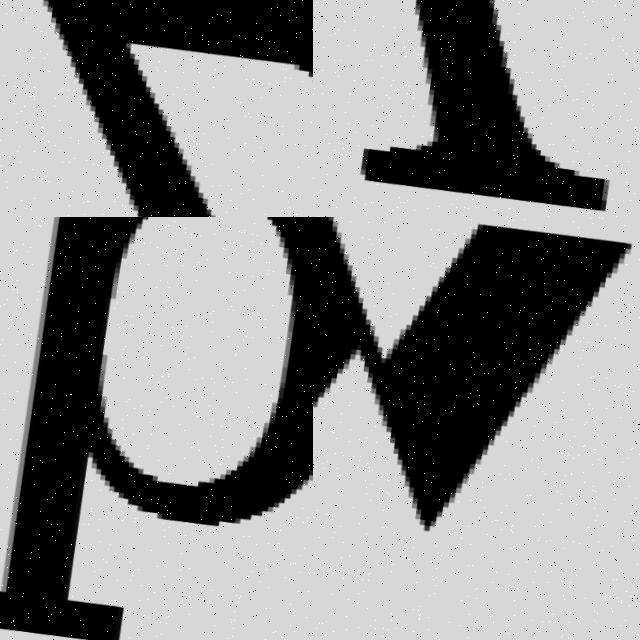1: (313, 0, 640, 217)
7: (0, 0, 313, 217)
Q: (0, 217, 313, 640)
W: (313, 217, 639, 557)
